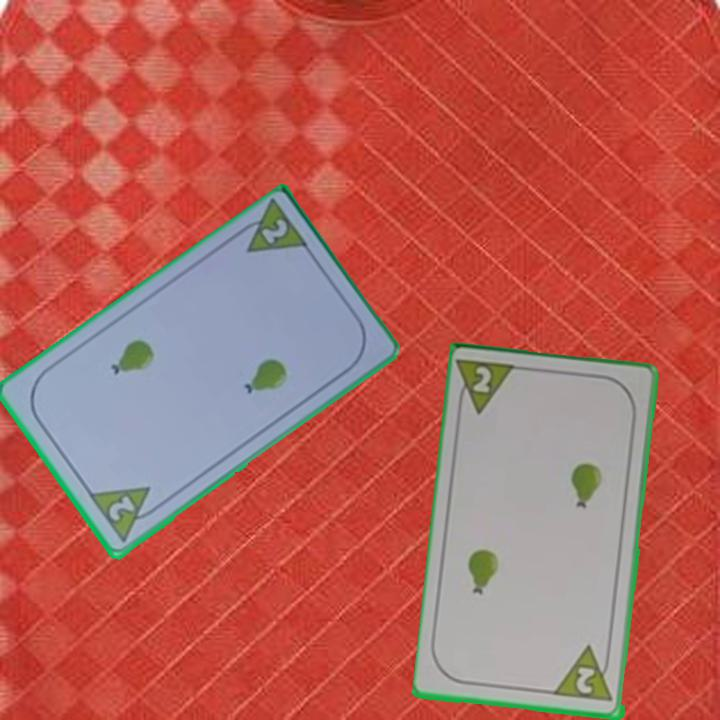2p: (85, 483, 165, 547), (454, 356, 522, 419), (553, 643, 616, 705), (257, 215, 291, 248)
